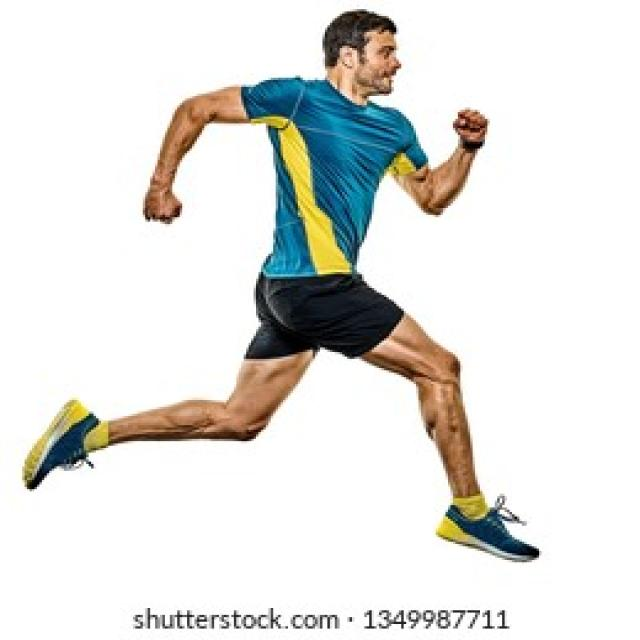running: (20, 9, 555, 564)
